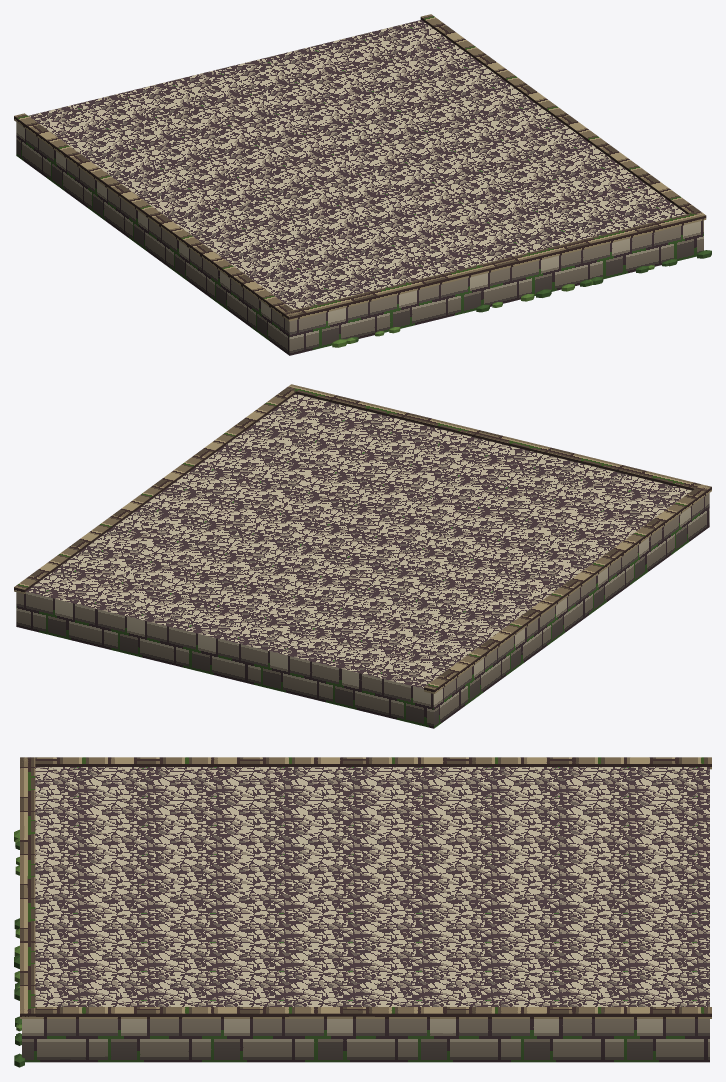
3 views of the same model, one above another, from view 1: azimuth 30°, elevation 25°; view 2: azimuth 150°, elevation 25°; view 3: azimuth 270°, elevation 25° (orthographic). The views are drawn at different scales.
Parts seen in each view (by area): view 1: scene_c6; view 2: scene_c6; view 3: scene_c6.
Boxes of the visible parts, x1=… form: scene_c6: x1=14, y1=14, x2=711, y2=355; scene_c6: x1=14, y1=384, x2=711, y2=728; scene_c6: x1=14, y1=757, x2=711, y2=1067.
Size of the model in its own units: 14.29 by 1.37 by 16.24.
3 materials, 2 textured.
